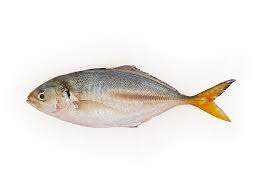Ikan Selar: (23, 67, 234, 127)
